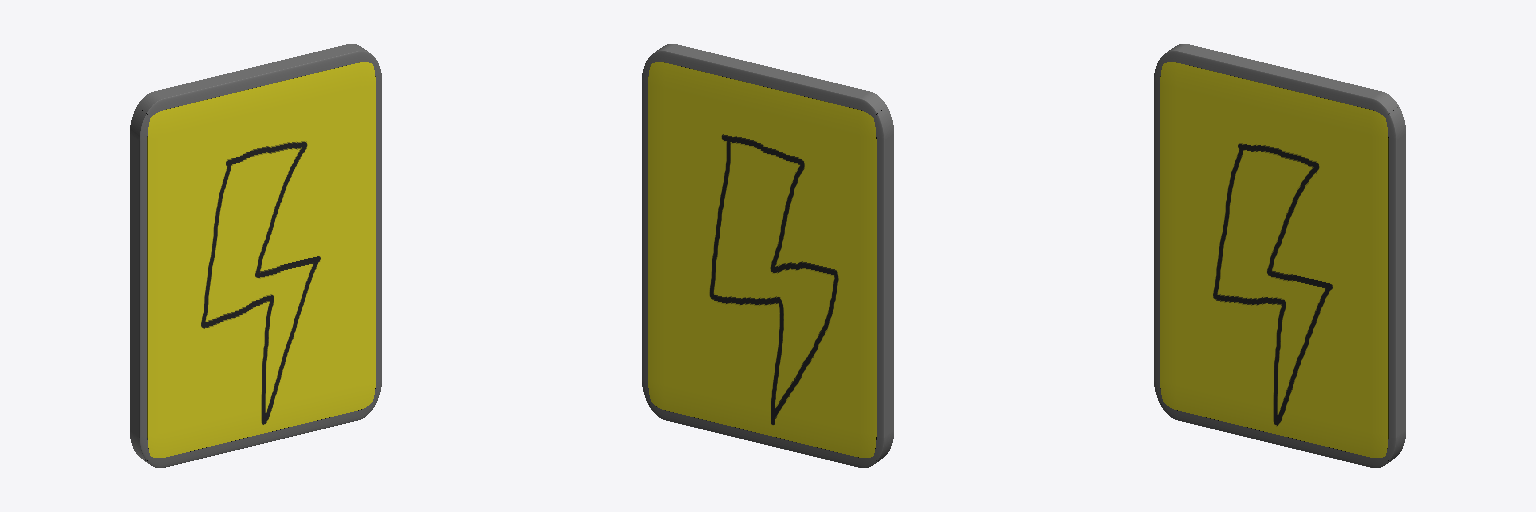
3 renders of one model, left to right at view 1: azimuth 30°, elevation 25°; view 2: azimuth 150°, elevation 25°; view 3: azimuth 330°, elevation 25°, orthographic.
Parts seen in each view (by area): view 1: 立方体; view 2: 立方体; view 3: 立方体.
Boxes of the visible parts, <box> form: 立方体: <box>130,44,381,467</box>; 立方体: <box>642,44,893,467</box>; 立方体: <box>1154,44,1405,467</box>.
Bounding box in the file's own units: 2.22 × 3.22 × 0.1917.
1 materials, 1 textured.